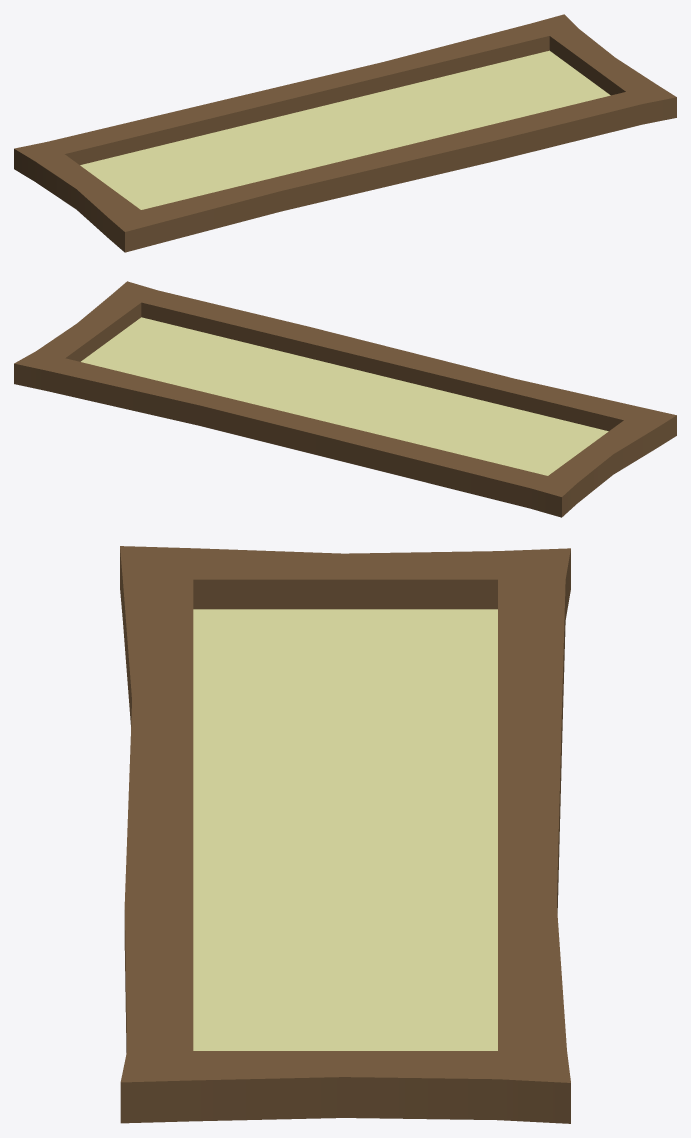
Rendered from Button Small.fbx.
The picture shows the model from 3 angles, top to bottom: view 1: azimuth 30°, elevation 25°; view 2: azimuth 150°, elevation 25°; view 3: azimuth 270°, elevation 25°; orthographic projection. The views are drawn at different scales.
Visible parts, largest first — view 1: Frame, Text_Plate; view 2: Frame, Text_Plate; view 3: Text_Plate, Frame.
Part boxes in pixels (left/top/right/bottom): Frame: left=14, top=14, right=676, bottom=252; Text_Plate: left=80, top=50, right=610, bottom=209; Frame: left=14, top=281, right=676, bottom=517; Text_Plate: left=81, top=317, right=608, bottom=475; Text_Plate: left=193, top=609, right=497, bottom=1050; Frame: left=120, top=546, right=570, bottom=1123.
Bounding box in the file's own units: 28.14 × 1 × 9.99.
